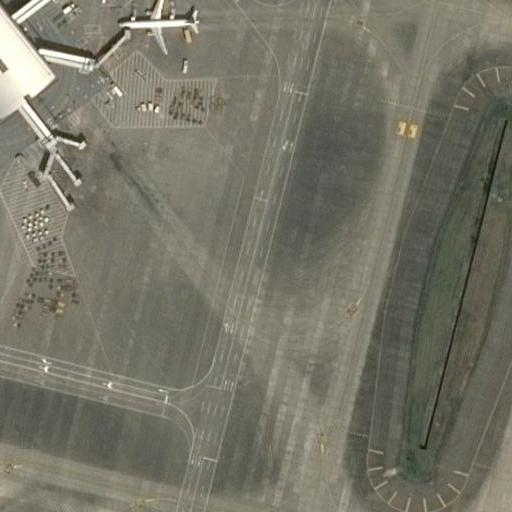Aircraft: (120, 0, 201, 53)
